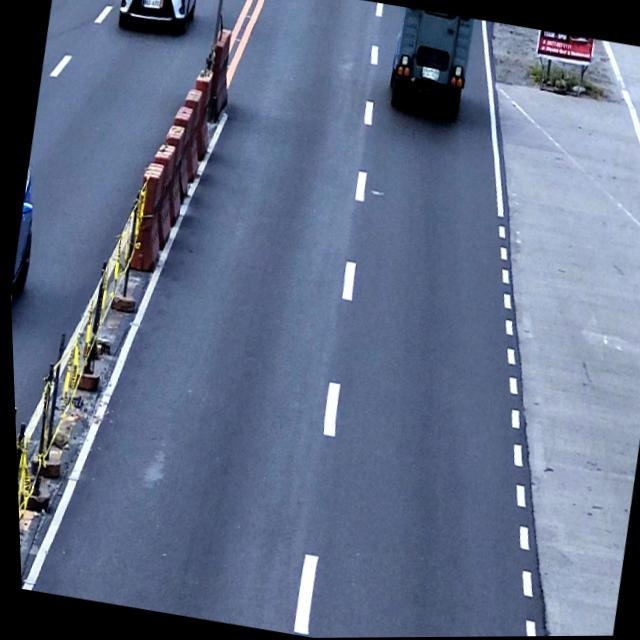Car: (381, 7, 477, 121), (5, 164, 45, 309), (114, 0, 201, 39)
License-Plate: (418, 65, 440, 83), (139, 0, 162, 11)
